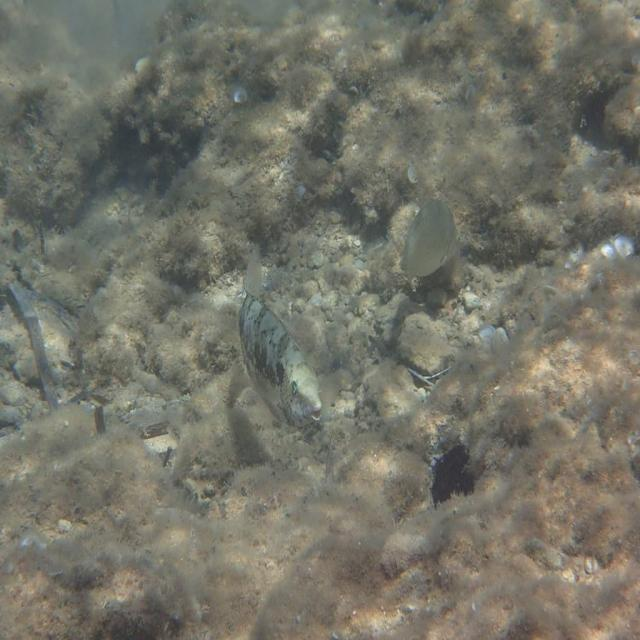Sokar Baligi: (228, 234, 330, 444), (388, 180, 471, 290)
